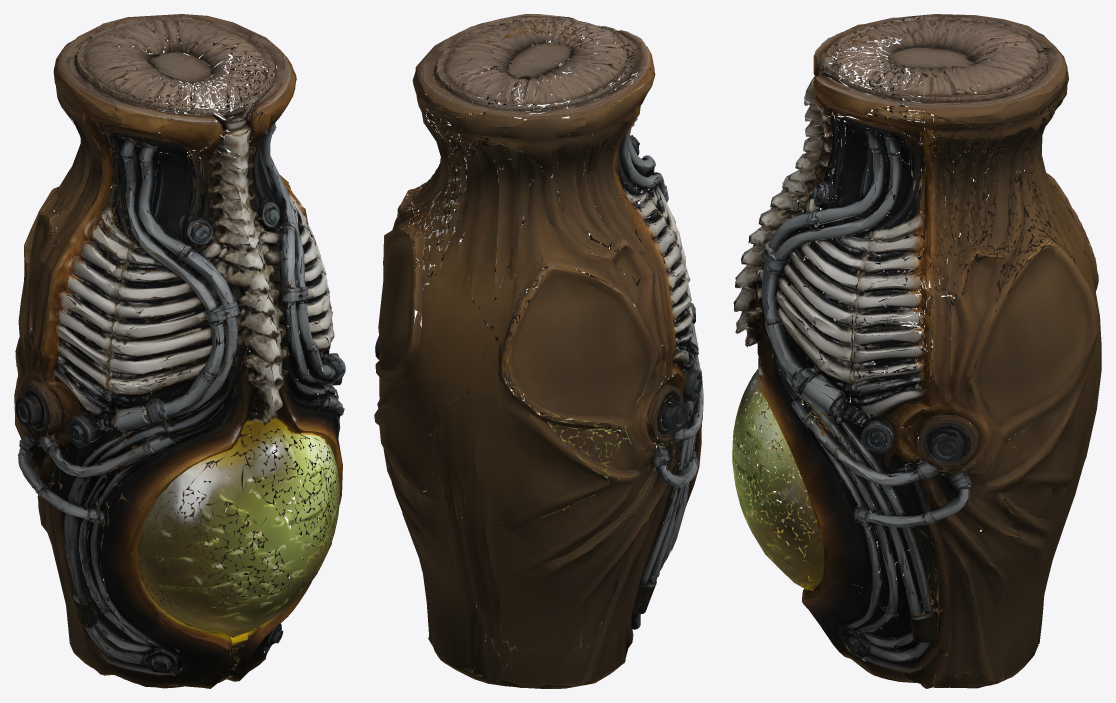
File: suture_larval_nursery_urn.glb
3 views of the same model, side by side, from view 1: azimuth 30°, elevation 25°; view 2: azimuth 150°, elevation 25°; view 3: azimuth 270°, elevation 25° (orthographic).
Parts seen in each view (by area): view 1: node_0; view 2: node_0; view 3: node_0.
Boxes of the visible parts, x1=… form: node_0: x1=14, y1=14, x2=345, y2=688; node_0: x1=374, y1=14, x2=703, y2=688; node_0: x1=732, y1=14, x2=1101, y2=688.
Size of the model in its own units: 0.5957 by 1.13 by 0.6324.
Materials: 1 (1 with a texture image).
